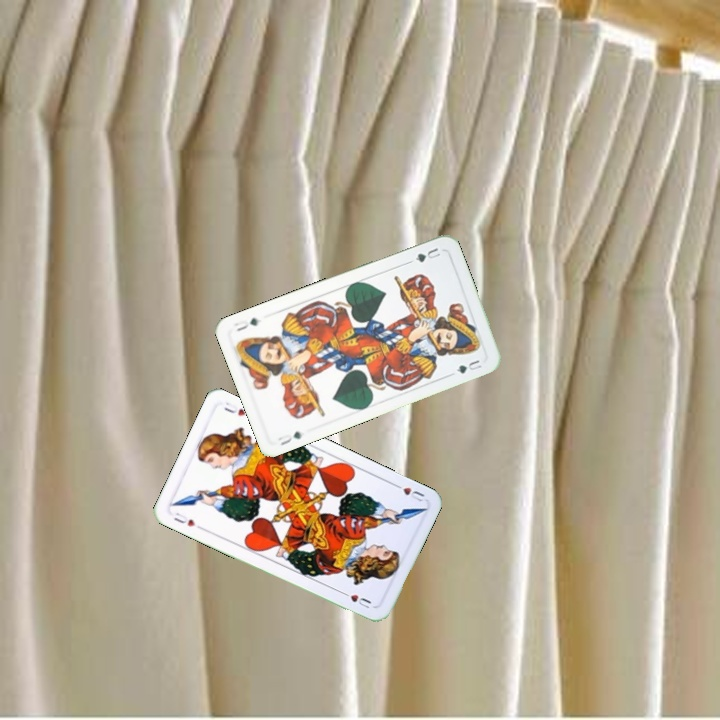GU: (411, 243, 443, 265), (274, 427, 305, 448)
HU: (389, 479, 428, 504), (169, 508, 205, 532)
